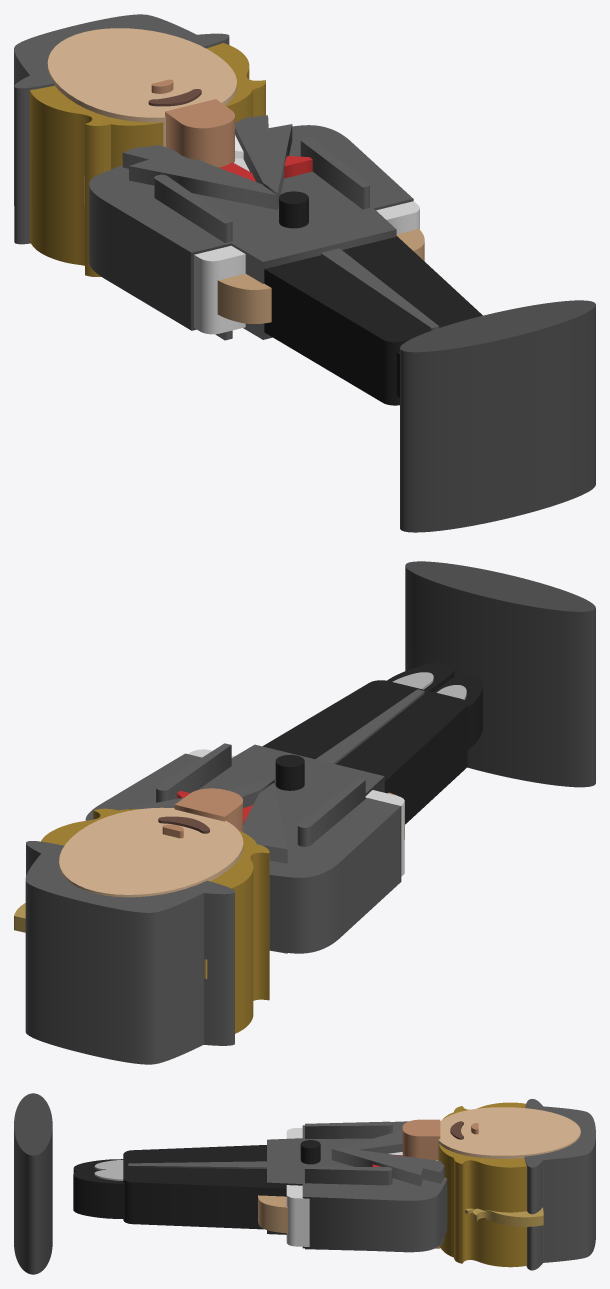
The model's file is emoji_u1f574_1f3fc.glb.
The picture shows the model from 3 angles, top to bottom: view 1: azimuth 30°, elevation 25°; view 2: azimuth 150°, elevation 25°; view 3: azimuth 270°, elevation 25°; orthographic projection. The views are drawn at different scales.
Visible parts, largest first — view 1: emoji_u1f574_1f3fc; view 2: emoji_u1f574_1f3fc; view 3: emoji_u1f574_1f3fc.
Boxes of the visible parts, x1,y1,x2,y2 form: emoji_u1f574_1f3fc: (14,14,595,532); emoji_u1f574_1f3fc: (14,561,595,1064); emoji_u1f574_1f3fc: (14,1093,595,1274).
Bounding box in the file's own units: 0.0106 × 0.0074 × 0.0328.
